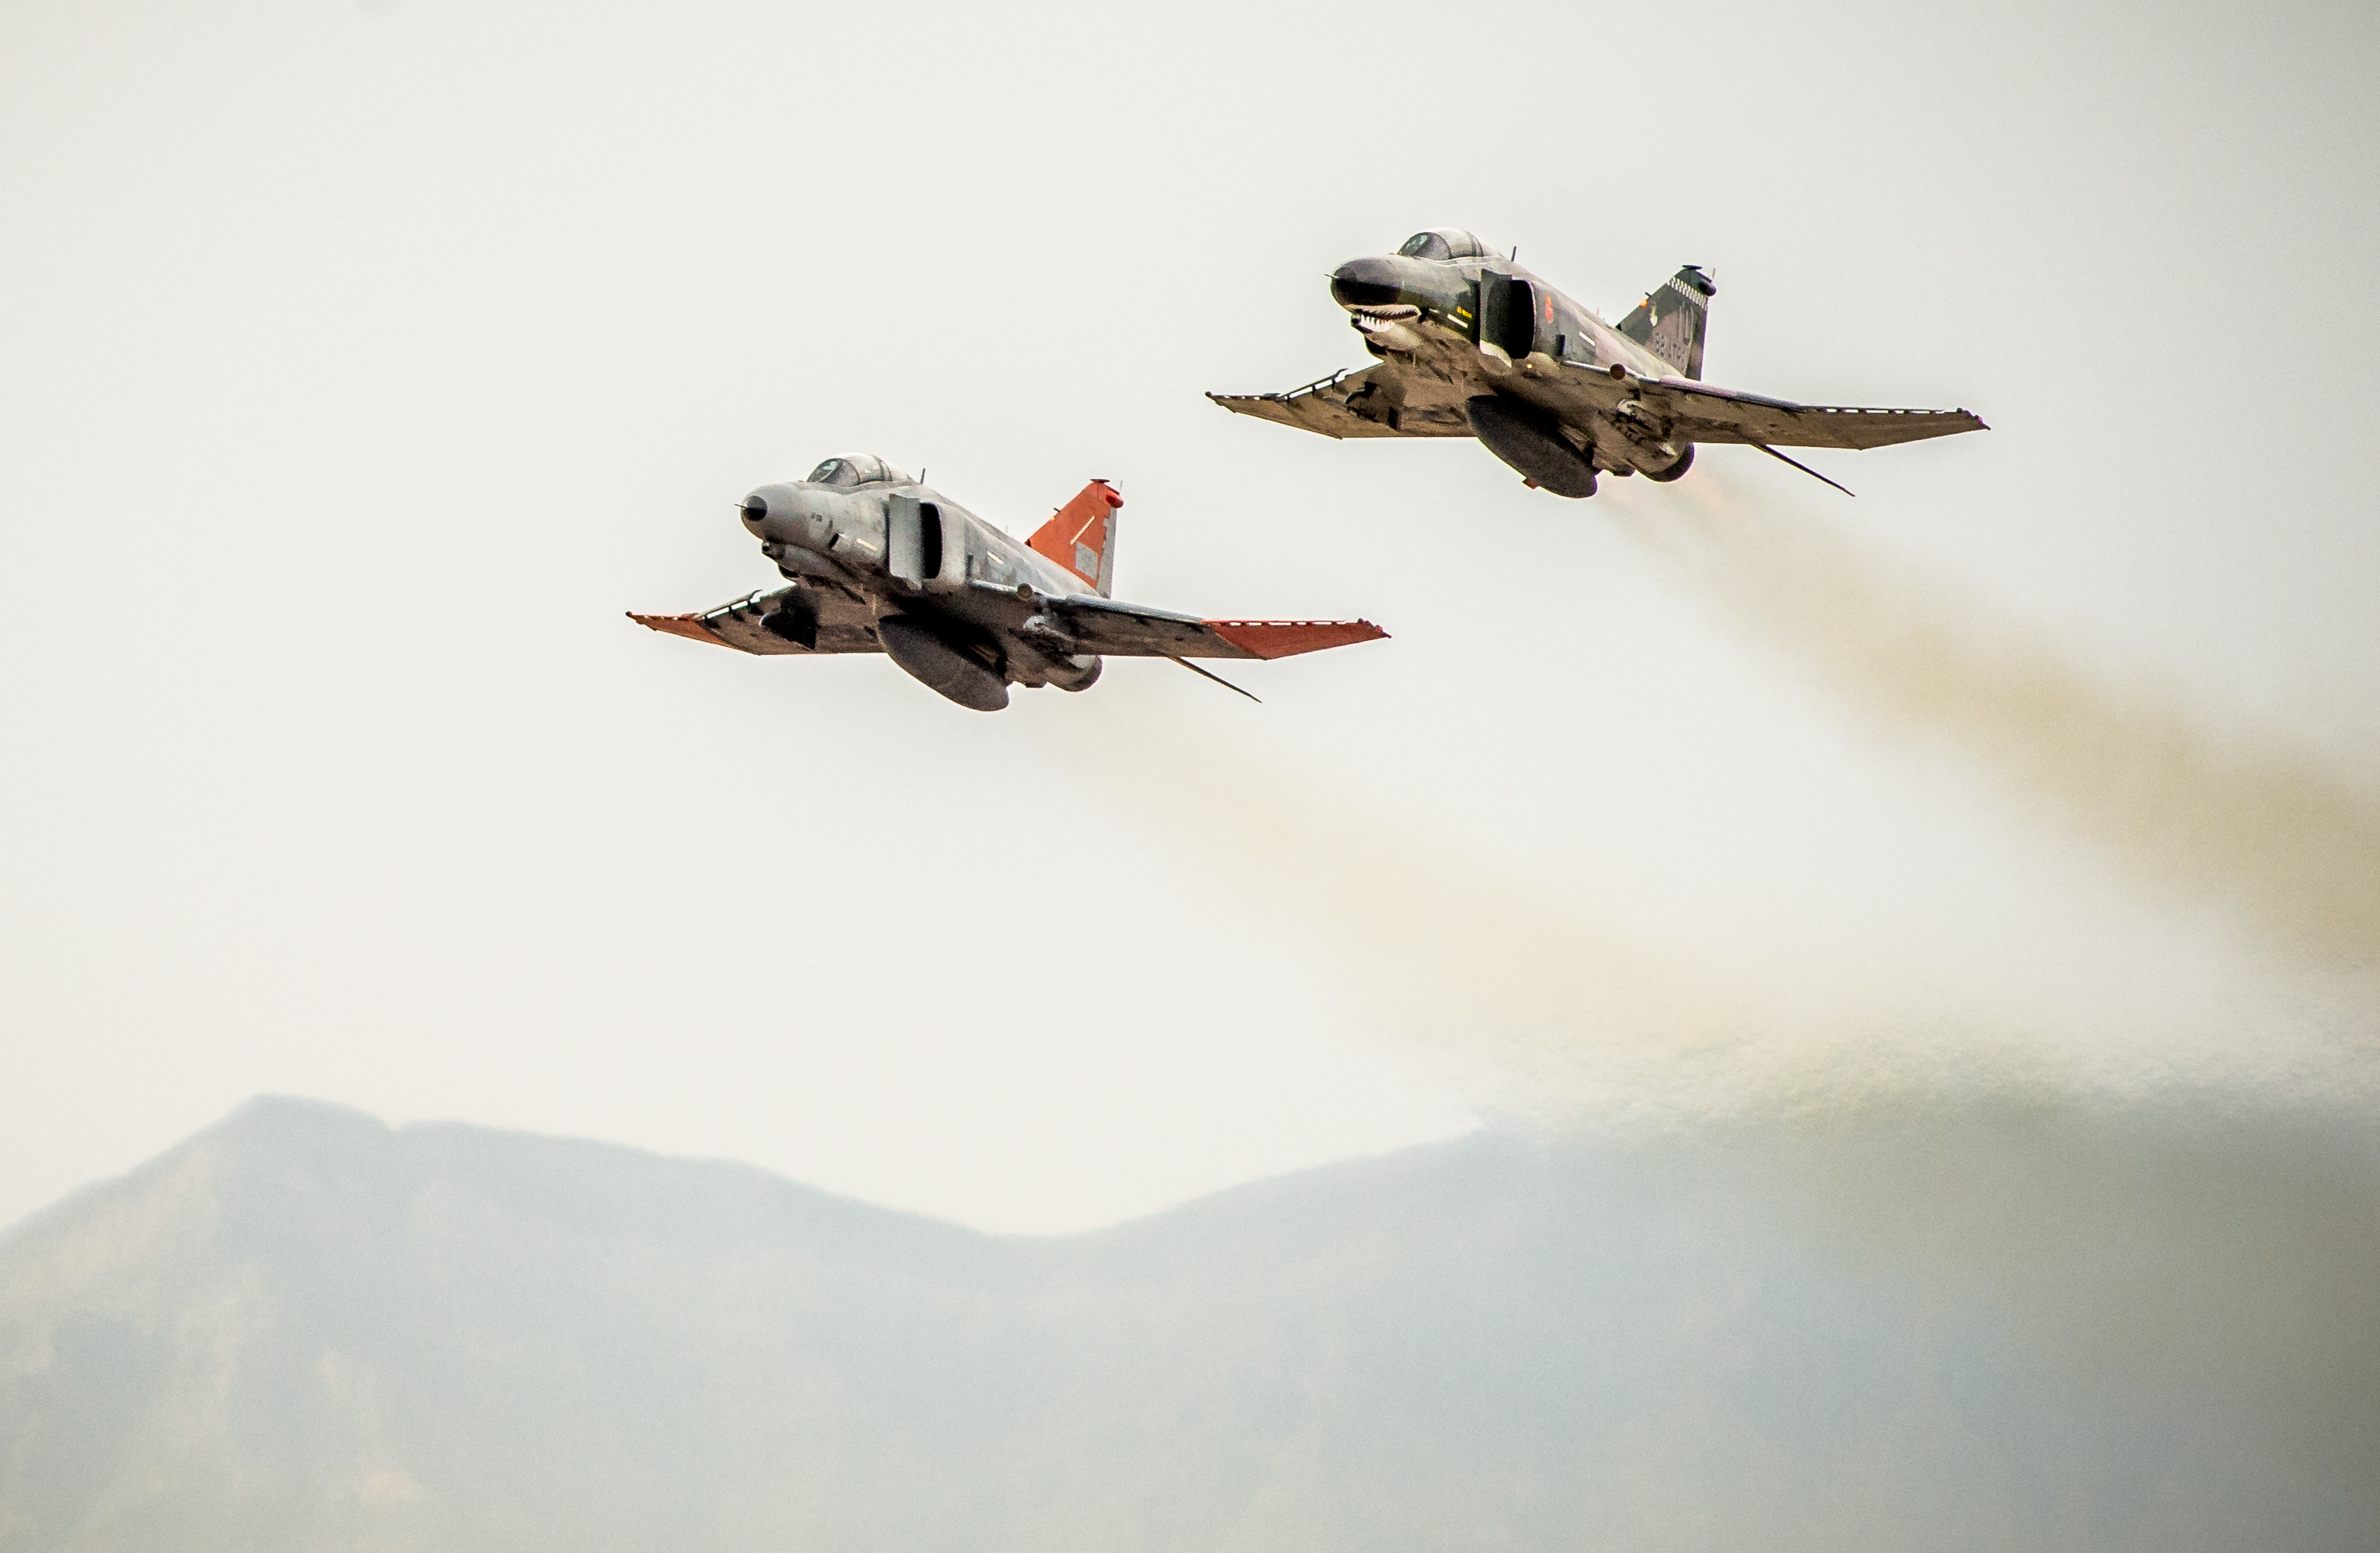F4: (1204, 226, 1991, 500), (624, 451, 1393, 711)
